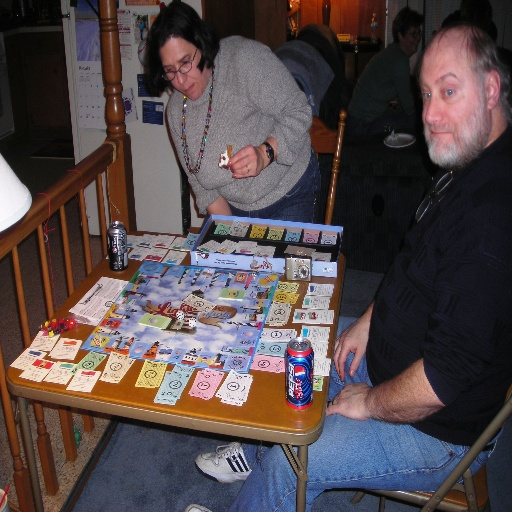hand: (333, 303, 361, 395), (325, 380, 374, 420), (226, 143, 264, 178)
